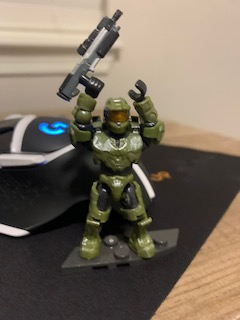chief: (67, 75, 163, 261)
rifle: (53, 8, 126, 106)
spartan: (65, 73, 161, 259)
up: (67, 75, 164, 173)
